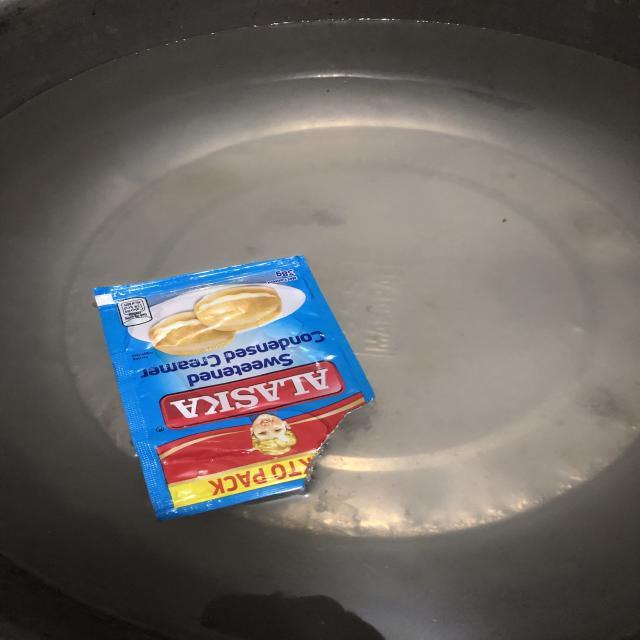Plastic Wrapper: (89, 251, 377, 524)
